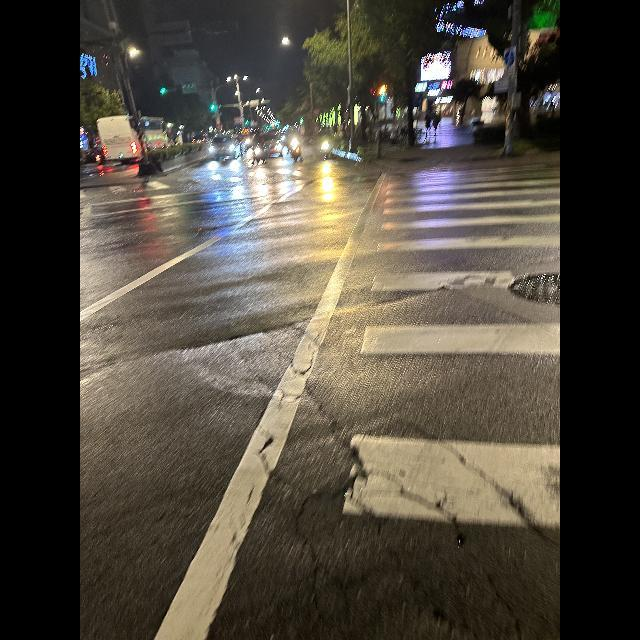sidewalk: (341, 160, 560, 533)
